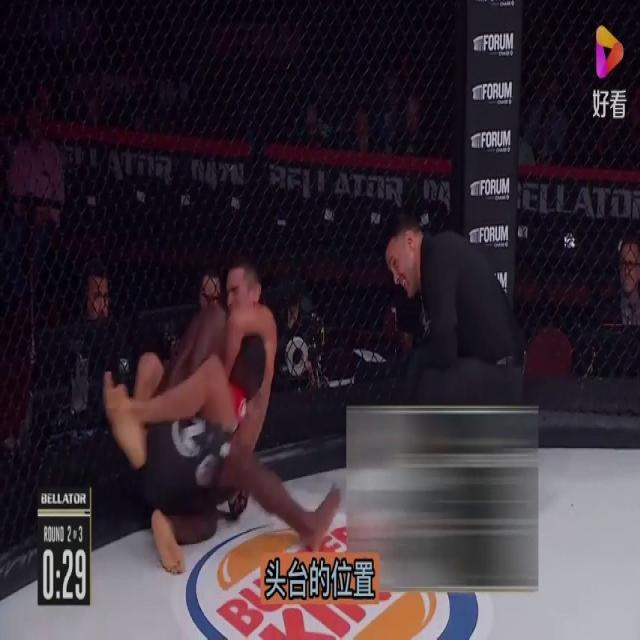fight: (88, 254, 331, 566)
non-fight: (375, 206, 529, 460)
